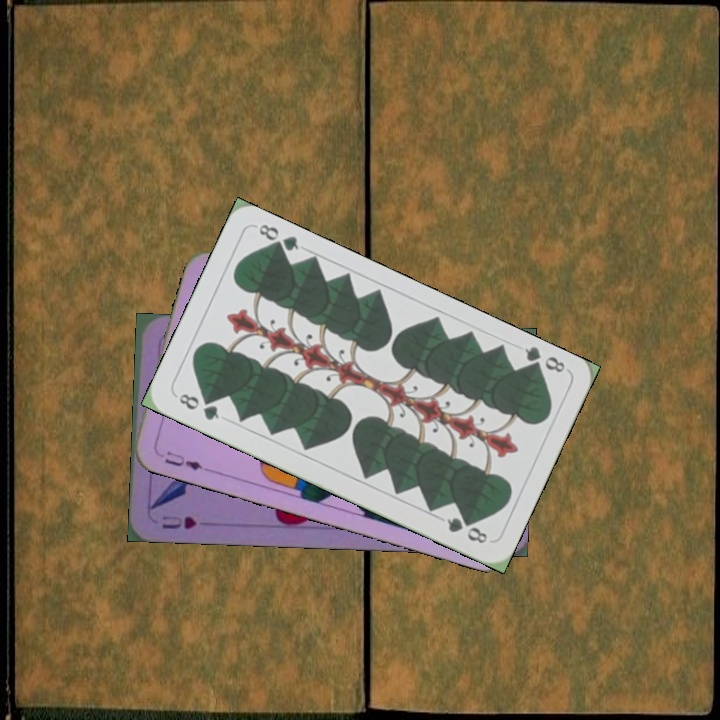EU: (161, 447, 212, 473)
G8: (172, 389, 222, 423), (520, 342, 568, 377)
HU: (158, 511, 199, 532)
